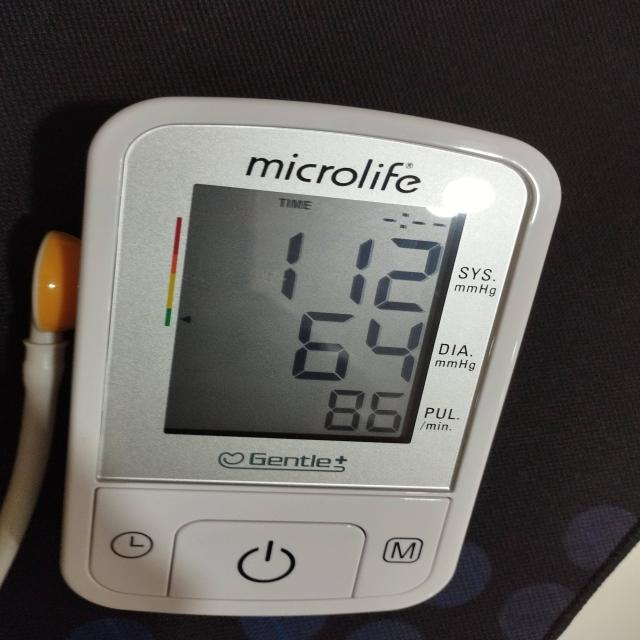bp: (38, 97, 562, 622)
